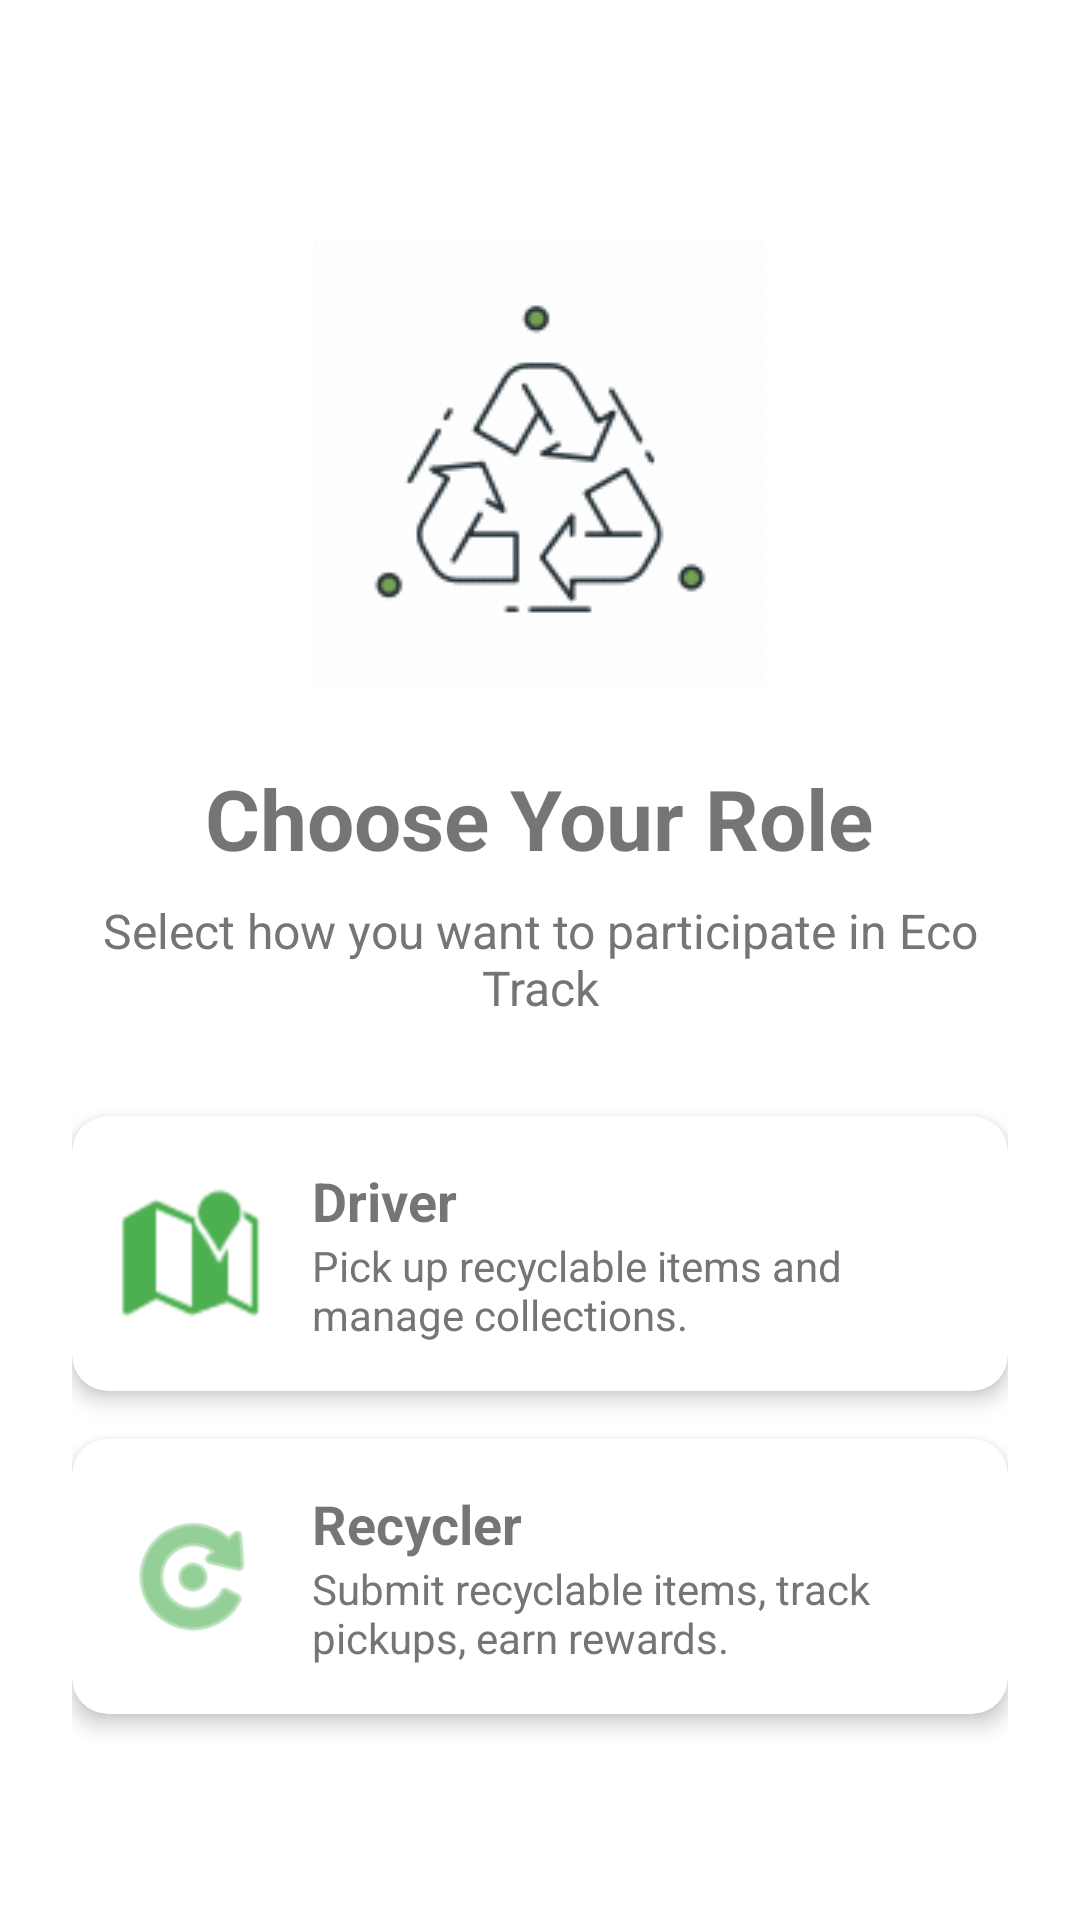

Named icons in this screenshot (1080 × 1920) and their centers, (x,y):
map: (191,1252)
rotate: (192,1577)
